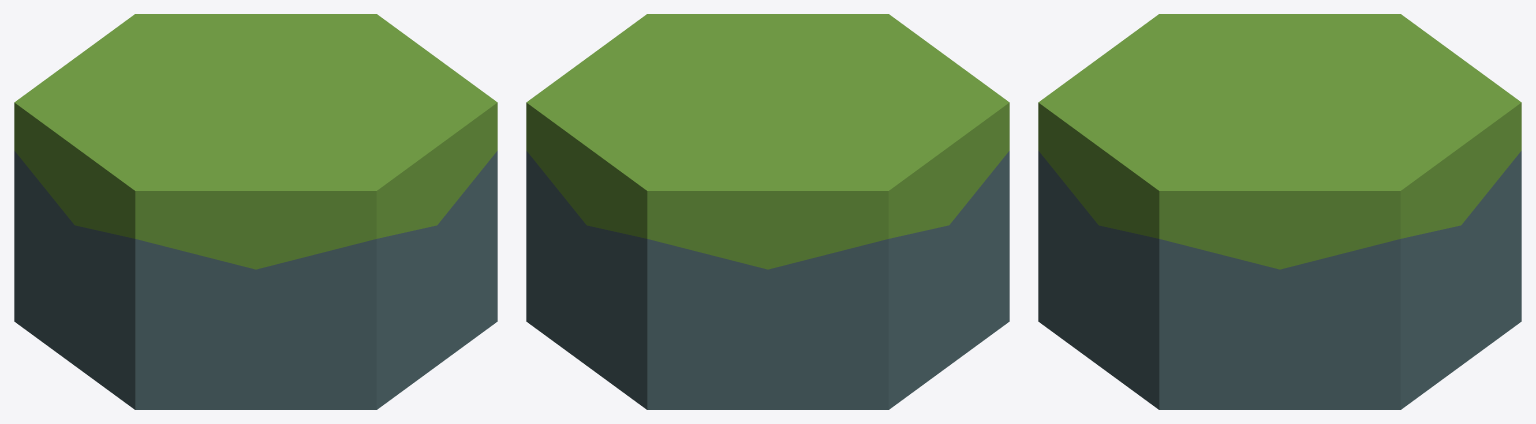
Rendered from dirty3.glb.
The picture shows the model from 3 angles, left to right: view 1: azimuth 30°, elevation 25°; view 2: azimuth 150°, elevation 25°; view 3: azimuth 270°, elevation 25°; orthographic projection.
Parts seen in each view (by area): view 1: земля2; view 2: земля2; view 3: земля2.
Boxes of the visible parts, x1=… form: земля2: x1=14, y1=14, x2=497, y2=409; земля2: x1=526, y1=14, x2=1009, y2=409; земля2: x1=1038, y1=14, x2=1521, y2=409.
Bounding box in the file's own units: 4.79 × 2.77 × 5.53.
1 material, 1 textured.
